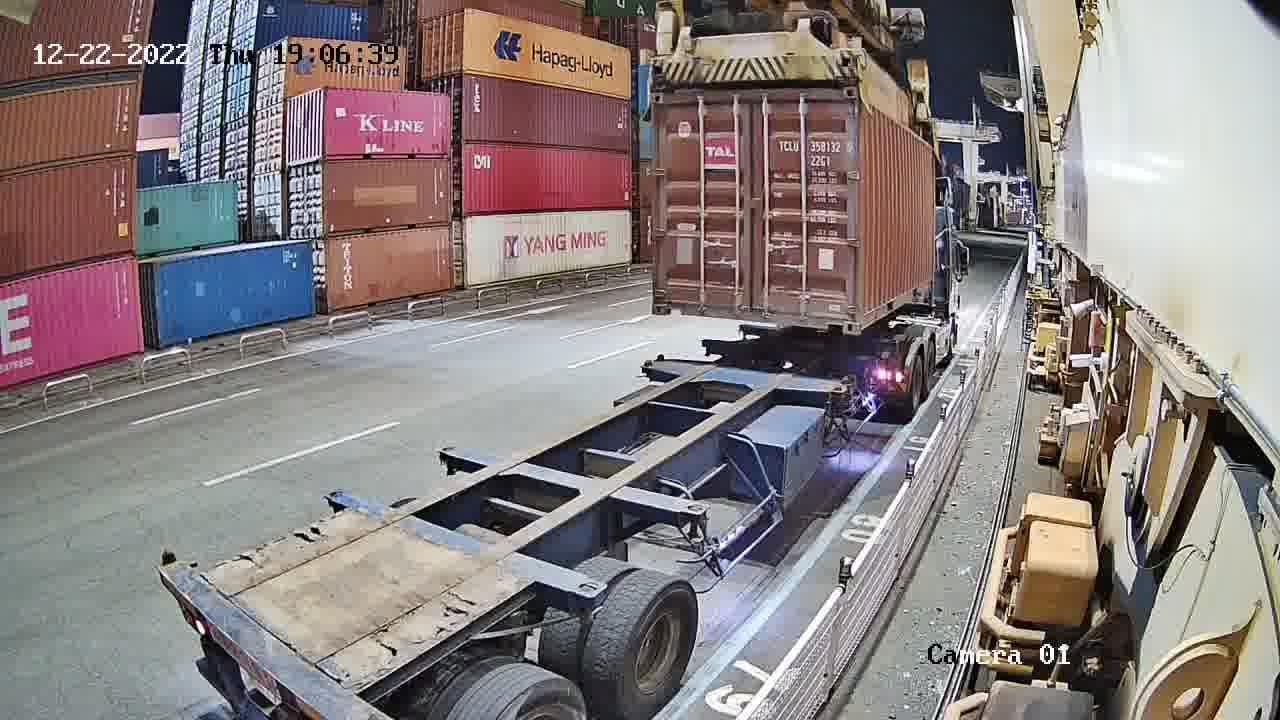Chassis: (636, 356, 853, 396)
Container: (649, 287, 858, 339)
Hole_L: (651, 287, 681, 317)
Hole_R: (834, 300, 858, 337)
Tire: (612, 580, 702, 716)
